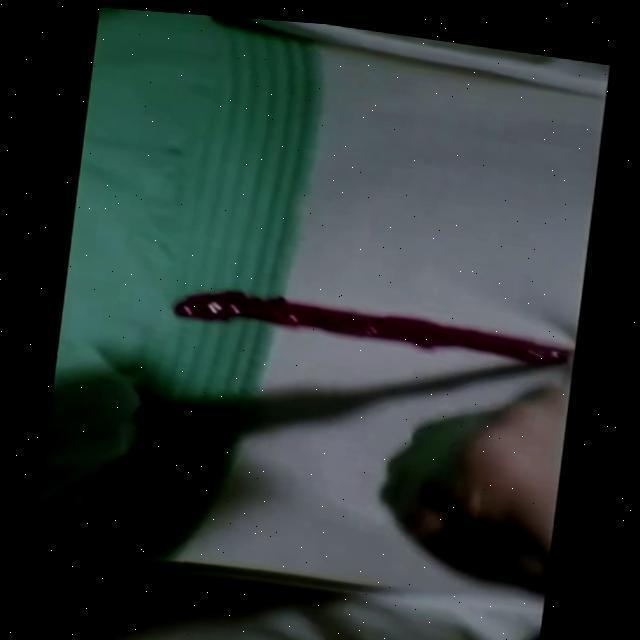knife: (167, 285, 582, 372)
